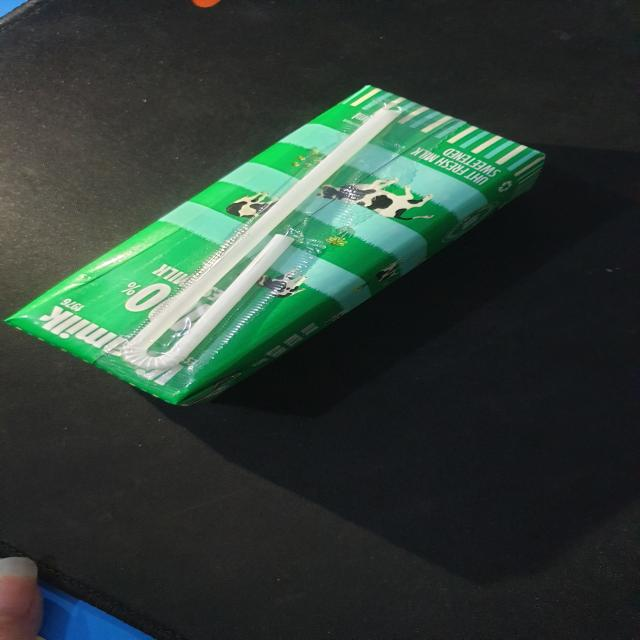Vina: (1, 84, 553, 410)
